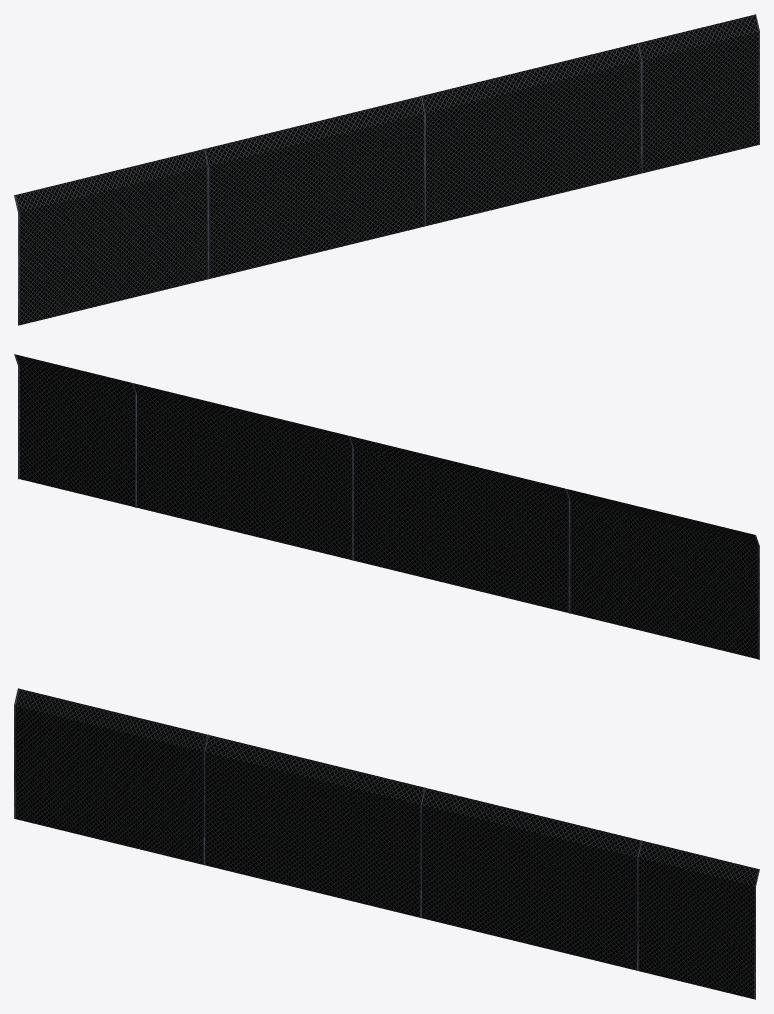
Rendered from M10_WireFence15.glb.
The picture shows the model from 3 angles, top to bottom: view 1: azimuth 30°, elevation 25°; view 2: azimuth 150°, elevation 25°; view 3: azimuth 330°, elevation 25°; orthographic projection.
Parts seen in each view (by area): view 1: M10_WIREFENCE15; view 2: M10_WIREFENCE15; view 3: M10_WIREFENCE15.
Part boxes in pixels (bbox=[...]): M10_WIREFENCE15: bbox=[14, 14, 759, 325]; M10_WIREFENCE15: bbox=[14, 354, 759, 659]; M10_WIREFENCE15: bbox=[14, 688, 759, 999].
Bounding box in the file's own units: 13.7 × 2.25 × 0.141.
2 materials, 2 textured.
